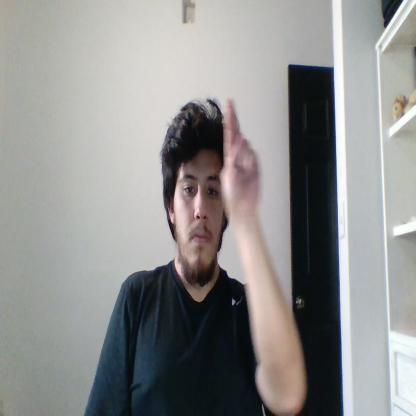R: (219, 97, 260, 218)
